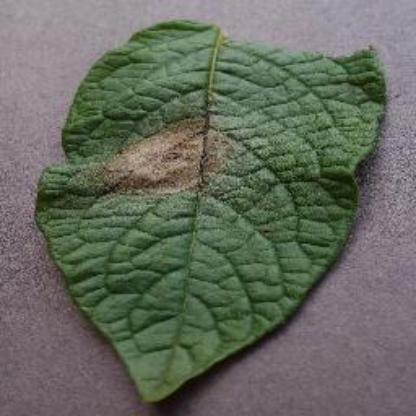Late-Blight: (29, 8, 394, 408)
